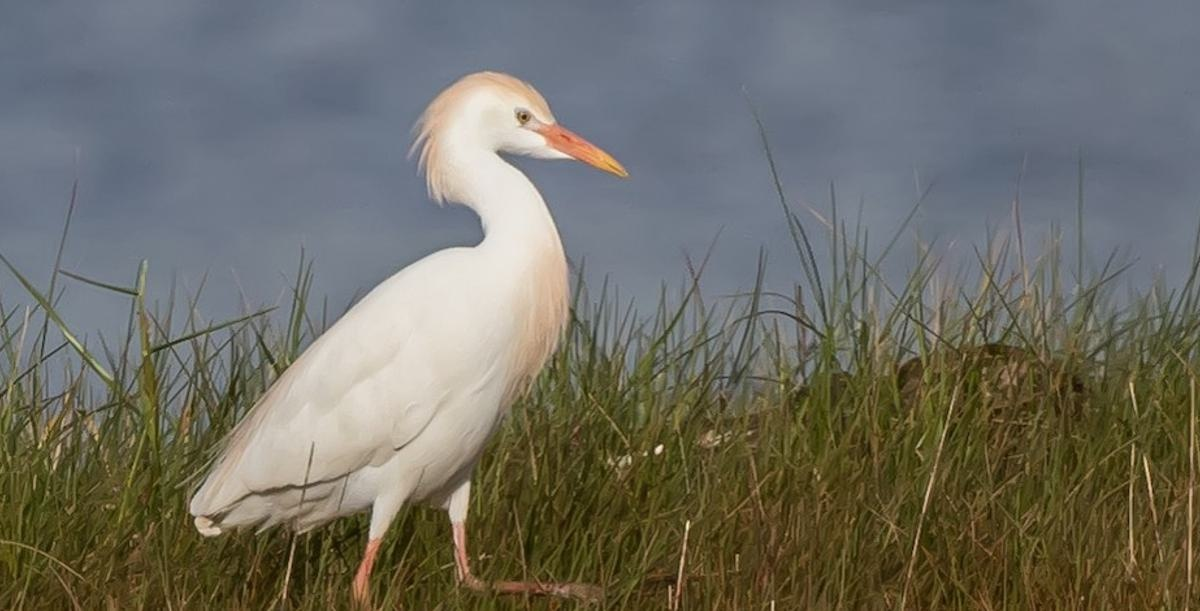egret: (163, 52, 663, 593)
